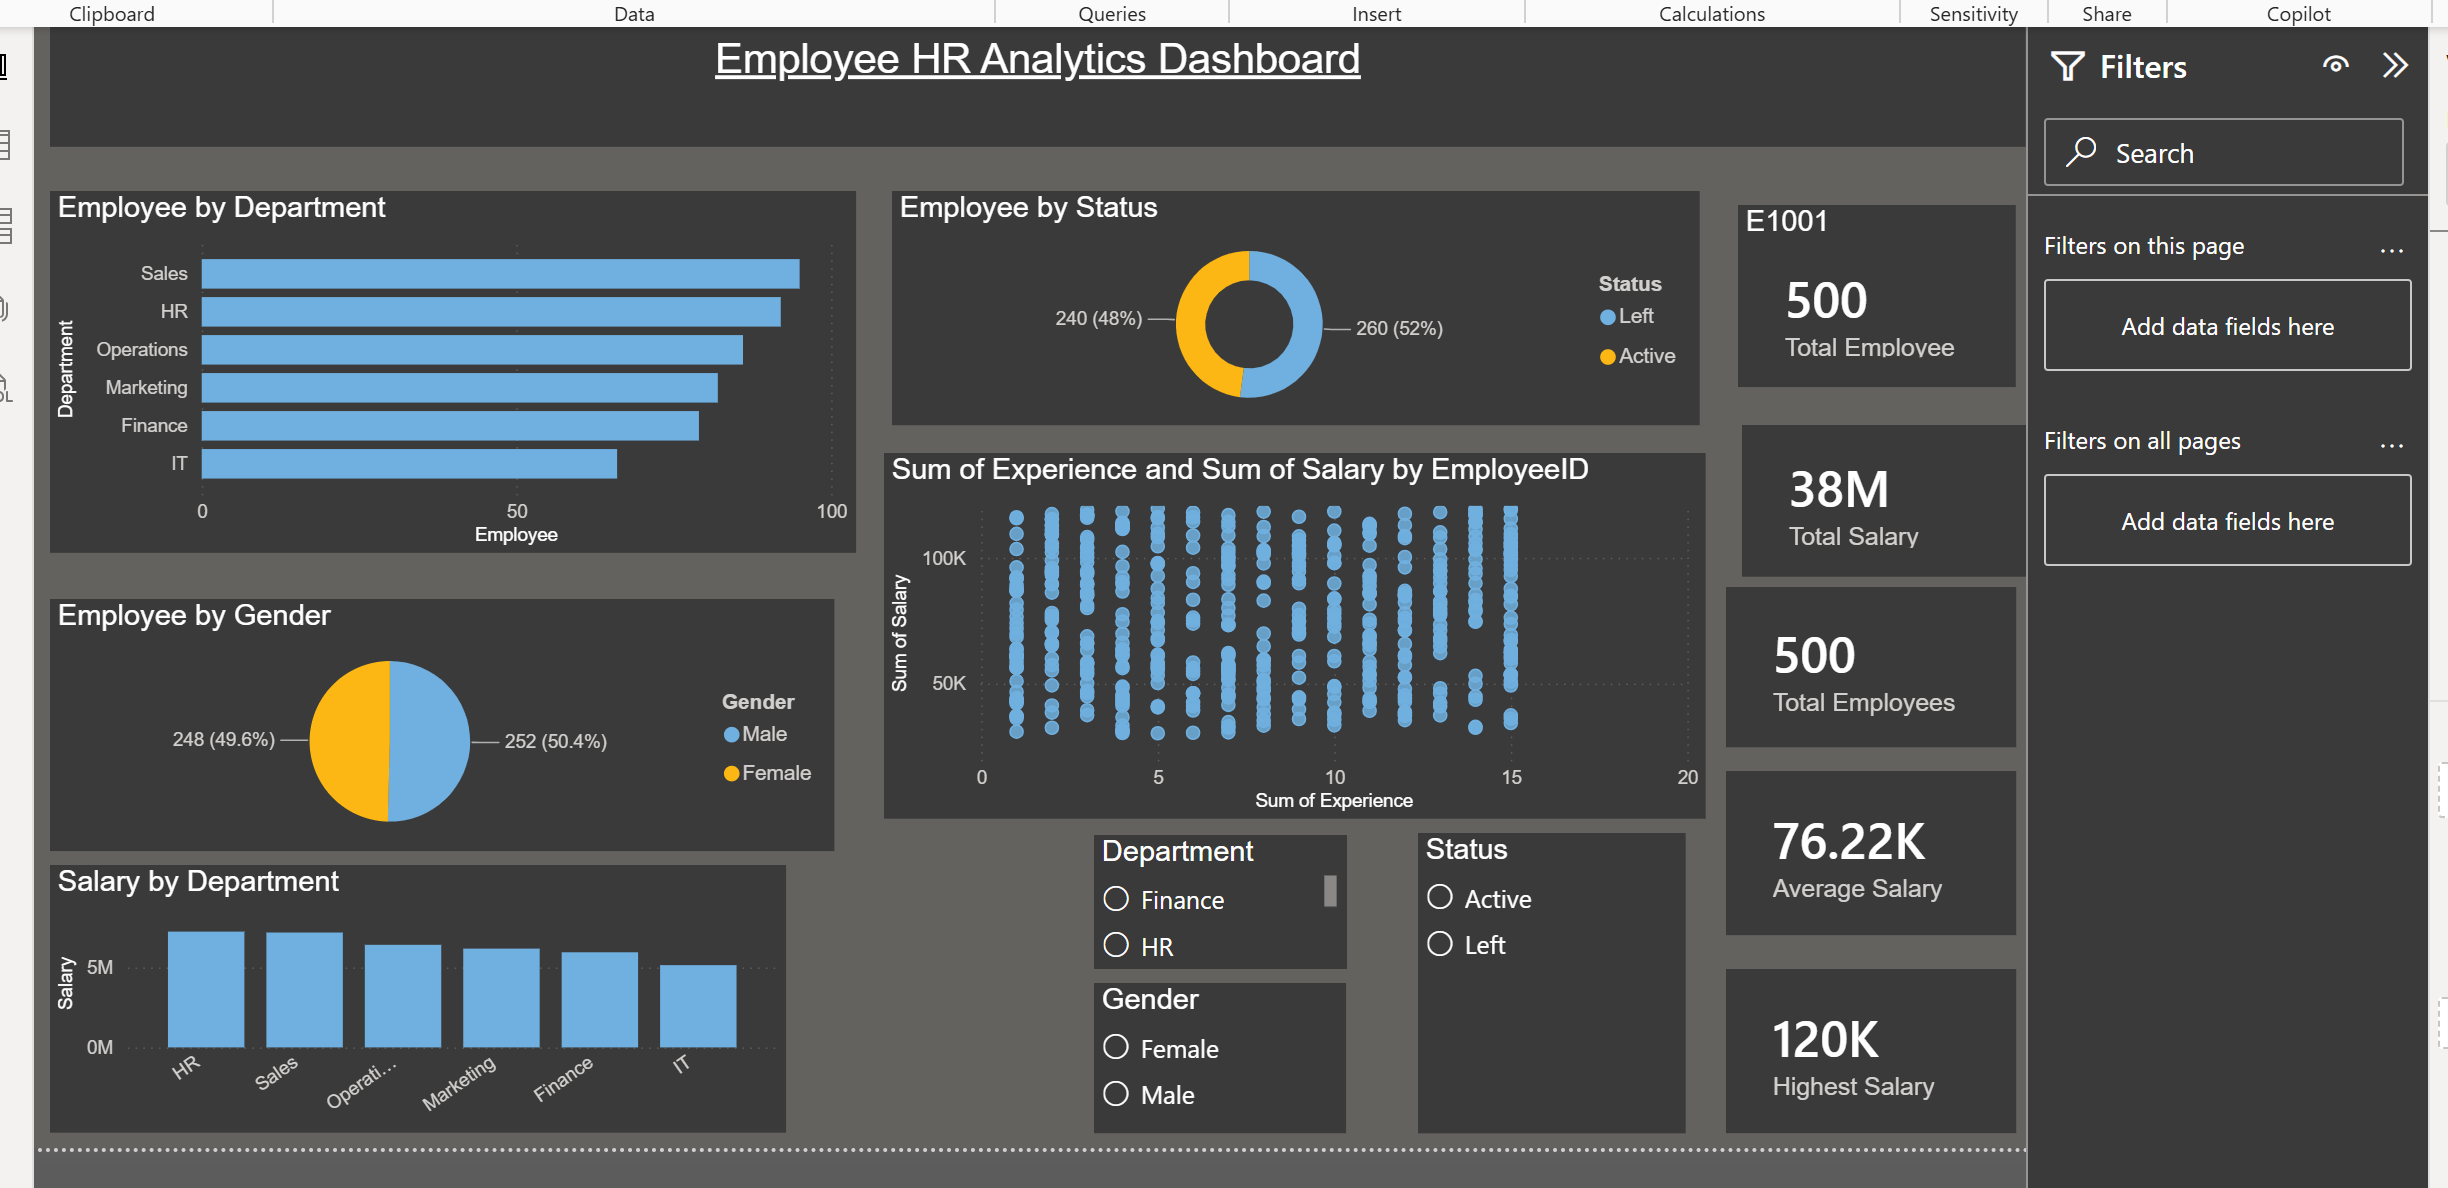

What the dashboard file says about the page in this screenshot:
{"tool":"powerbi","page":{"name":"Page 1","canvas":[1280,720],"ordinal":0},"visuals":[{"type":"textbox","box":[10.3,0,1269.7,77.1],"z":0},{"type":"cardVisual","fields":{"Data":["CountNonNull(Employee.EmployeeID)"]},"box":[1094.9,114.4,178.6,116.9],"z":1000},{"type":"cardVisual","fields":{"Data":["Sum(Employee.Salary)"]},"box":[1097.5,255.7,182.5,97.7],"z":2000},{"type":"cardVisual","fields":{"Data":["Employee.Total Employees"]},"box":[1087.2,359.8,186.3,102.8],"z":3000},{"type":"cardVisual","fields":{"Data":["Employee.Average Salary"]},"box":[1087.2,478.1,186.3,105.4],"z":4000},{"type":"cardVisual","fields":{"Data":["Employee.Highest Salary"]},"box":[1087.2,605.3,186.3,105.4],"z":5000},{"type":"clusteredBarChart","fields":{"Category":["Employee.Department"],"Y":["CountNonNull(Employee.EmployeeID)"]},"box":[10.3,105.4,517.9,232.6],"z":6000},{"type":"pieChart","fields":{"Category":["Employee.Gender"],"Y":["CountNonNull(Employee.EmployeeID)"]},"box":[10.3,367.6,503.8,161.9],"z":7000},{"type":"clusteredColumnChart","fields":{"Category":["Employee.Department"],"Y":["Sum(Employee.Salary)"]},"box":[10.3,538.5,472.9,172.2],"z":8000},{"type":"donutChart","fields":{"Category":["Employee.Status"],"Y":["CountNonNull(Employee.EmployeeID)"]},"box":[551.3,105.4,519.2,150.4],"z":9000},{"type":"scatterChart","fields":{"X":["Sum(Employee.Experience)"],"Y":["Sum(Employee.Salary)"],"Category":["Employee.EmployeeID"]},"box":[546.2,273.7,528.2,235.2],"z":10000},{"type":"listSlicer","fields":{"Values":["Employee.Department"]},"box":[681.1,519.2,161.9,86.1],"z":11000},{"type":"listSlicer","fields":{"Values":["Employee.Gender"]},"box":[681.1,614.3,161.9,96.4],"z":12000},{"type":"listSlicer","fields":{"Values":["Employee.Status"]},"box":[889.3,517.9,172.2,192.8],"z":13000}]}

Visuals, with their boxes on the page's 1280x720 design canvas (x1, y1, x2, y2). These are canvas units, not pixel positions in the 2448x1188 screenshot, which may show the page scaled, cropped or inside an application window:
textbox: {"x1": 10, "y1": 0, "x2": 1280, "y2": 77}
cardVisual - CountNonNull(Employee.EmployeeID): {"x1": 1095, "y1": 114, "x2": 1274, "y2": 231}
cardVisual - Sum(Employee.Salary): {"x1": 1098, "y1": 256, "x2": 1280, "y2": 353}
cardVisual - Employee.Total Employees: {"x1": 1087, "y1": 360, "x2": 1274, "y2": 463}
cardVisual - Employee.Average Salary: {"x1": 1087, "y1": 478, "x2": 1274, "y2": 584}
cardVisual - Employee.Highest Salary: {"x1": 1087, "y1": 605, "x2": 1274, "y2": 711}
clusteredBarChart - Employee.Department x CountNonNull(Employee.EmployeeID): {"x1": 10, "y1": 105, "x2": 528, "y2": 338}
pieChart - Employee.Gender x CountNonNull(Employee.EmployeeID): {"x1": 10, "y1": 368, "x2": 514, "y2": 530}
clusteredColumnChart - Employee.Department x Sum(Employee.Salary): {"x1": 10, "y1": 538, "x2": 483, "y2": 711}
donutChart - Employee.Status x CountNonNull(Employee.EmployeeID): {"x1": 551, "y1": 105, "x2": 1070, "y2": 256}
scatterChart - Sum(Employee.Experience) x Sum(Employee.Salary): {"x1": 546, "y1": 274, "x2": 1074, "y2": 509}
listSlicer - Employee.Department: {"x1": 681, "y1": 519, "x2": 843, "y2": 605}
listSlicer - Employee.Gender: {"x1": 681, "y1": 614, "x2": 843, "y2": 711}
listSlicer - Employee.Status: {"x1": 889, "y1": 518, "x2": 1062, "y2": 711}
